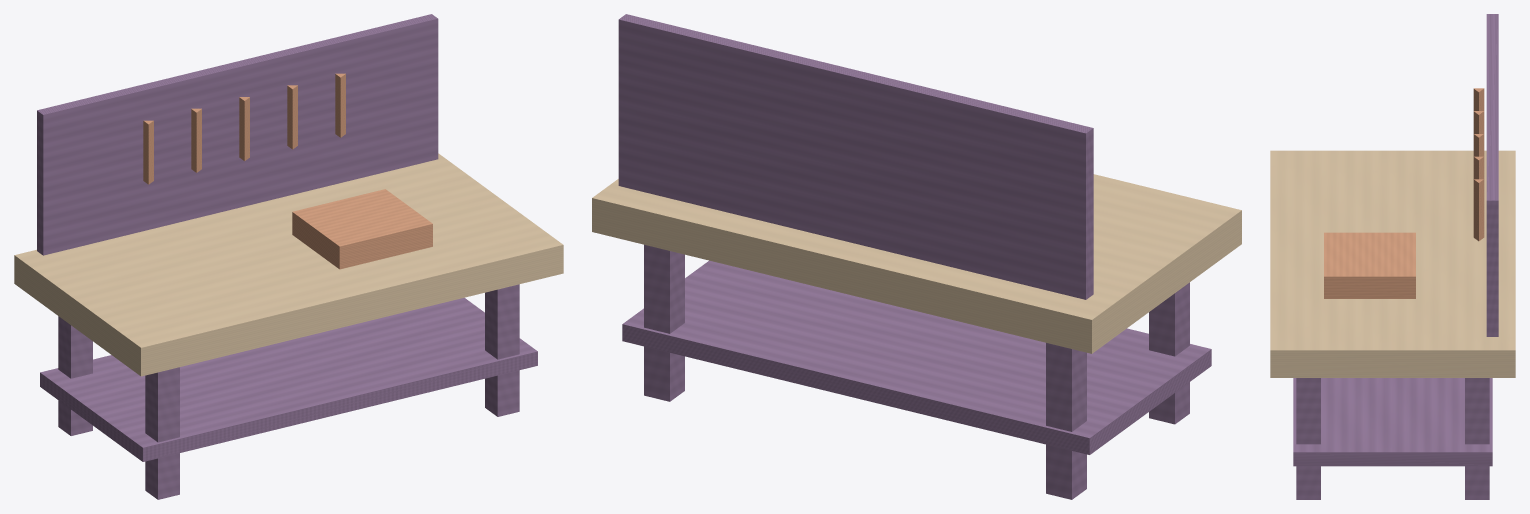
File: atlas100-s087-a06.lod2.glb
3 renders of one model, left to right at view 1: azimuth 30°, elevation 25°; view 2: azimuth 150°, elevation 25°; view 3: azimuth 270°, elevation 25°, orthographic. The views are drawn at different scales.
Visible parts, largest first — view 1: atlas100-s087-a06:part-004, atlas100-s087-a06:part-006, atlas100-s087-a06:part-005, atlas100-s087-a06:part-012, atlas100-s087-a06:part-003, atlas100-s087-a06:part-001, atlas100-s087-a06:part-000, atlas100-s087-a06:part-008, atlas100-s087-a06:part-011, atlas100-s087-a06:part-007, atlas100-s087-a06:part-010, atlas100-s087-a06:part-009; view 2: atlas100-s087-a06:part-006, atlas100-s087-a06:part-005, atlas100-s087-a06:part-004, atlas100-s087-a06:part-000, atlas100-s087-a06:part-002, atlas100-s087-a06:part-001; view 3: atlas100-s087-a06:part-004, atlas100-s087-a06:part-005, atlas100-s087-a06:part-012, atlas100-s087-a06:part-006, atlas100-s087-a06:part-002, atlas100-s087-a06:part-003, atlas100-s087-a06:part-011, atlas100-s087-a06:part-010.
Boxes of the visible parts, x1=… form: atlas100-s087-a06:part-004: x1=14, y1=153, x2=563, y2=376; atlas100-s087-a06:part-006: x1=37, y1=14, x2=438, y2=255; atlas100-s087-a06:part-005: x1=40, y1=297, x2=537, y2=461; atlas100-s087-a06:part-012: x1=292, y1=189, x2=432, y2=269; atlas100-s087-a06:part-003: x1=485, y1=284, x2=519, y2=416; atlas100-s087-a06:part-001: x1=145, y1=367, x2=179, y2=499; atlas100-s087-a06:part-000: x1=58, y1=316, x2=92, y2=435; atlas100-s087-a06:part-008: x1=191, y1=108, x2=201, y2=172; atlas100-s087-a06:part-011: x1=335, y1=73, x2=345, y2=137; atlas100-s087-a06:part-007: x1=143, y1=120, x2=153, y2=184; atlas100-s087-a06:part-010: x1=287, y1=85, x2=297, y2=149; atlas100-s087-a06:part-009: x1=239, y1=97, x2=249, y2=161; atlas100-s087-a06:part-006: x1=618, y1=14, x2=1093, y2=299; atlas100-s087-a06:part-005: x1=622, y1=260, x2=1211, y2=454; atlas100-s087-a06:part-004: x1=592, y1=174, x2=1241, y2=353; atlas100-s087-a06:part-000: x1=1046, y1=343, x2=1086, y2=499; atlas100-s087-a06:part-002: x1=644, y1=244, x2=684, y2=401; atlas100-s087-a06:part-001: x1=1149, y1=282, x2=1189, y2=424; atlas100-s087-a06:part-004: x1=1270, y1=150, x2=1515, y2=377; atlas100-s087-a06:part-005: x1=1293, y1=378, x2=1492, y2=466; atlas100-s087-a06:part-012: x1=1324, y1=232, x2=1415, y2=298; atlas100-s087-a06:part-006: x1=1486, y1=14, x2=1498, y2=336; atlas100-s087-a06:part-002: x1=1465, y1=378, x2=1489, y2=499; atlas100-s087-a06:part-003: x1=1296, y1=378, x2=1320, y2=499; atlas100-s087-a06:part-011: x1=1473, y1=179, x2=1484, y2=241; atlas100-s087-a06:part-010: x1=1473, y1=156, x2=1484, y2=179.
Bounding box in the file's own units: 3.08 × 2.21 × 1.6.
Materials: 3 (3 with a texture image).
